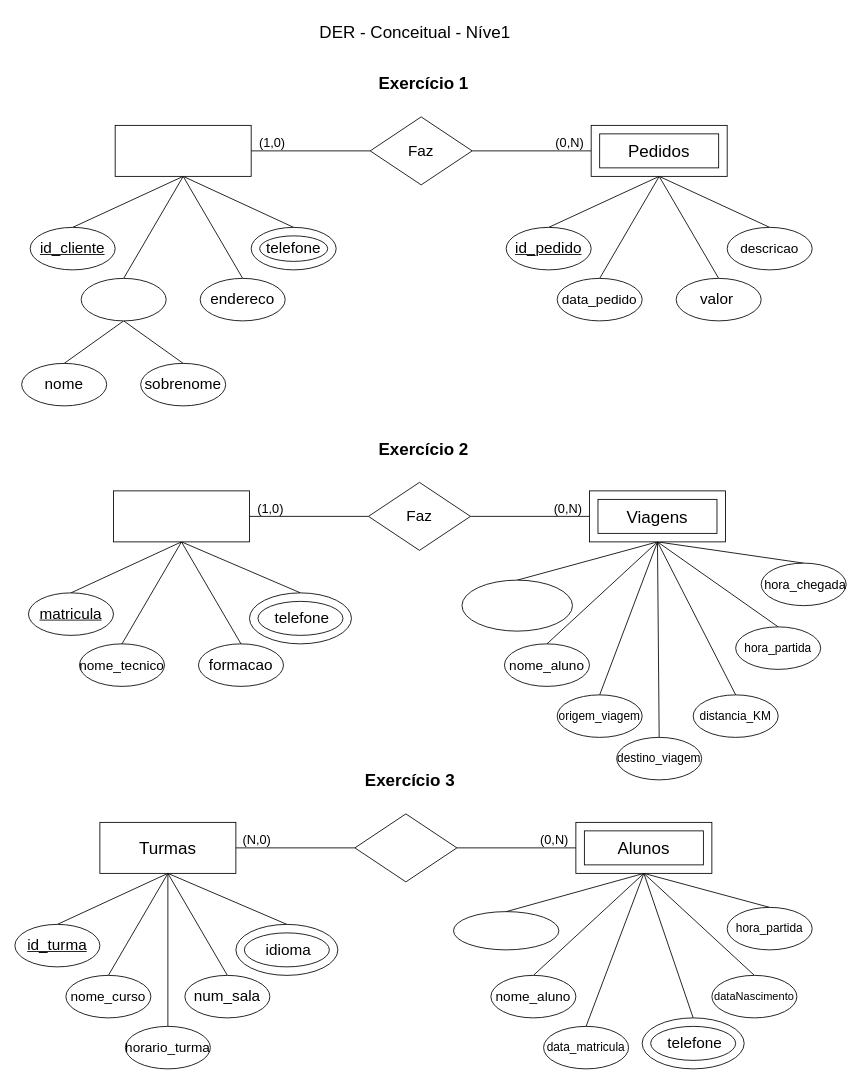
Some shapes in this 861 by 1084 pixel diagram are drawn without their labels. The shapes that lost their labels are listed below. From the top down, each one's centre as x and y in pixels, then its label:
[182,150]: Clientes
[123,299]: nome_cliente
[181,516]: Técnicos
[516,605]: num_manutencao
[405,847]: Possue
[506,930]: ra_aluno
